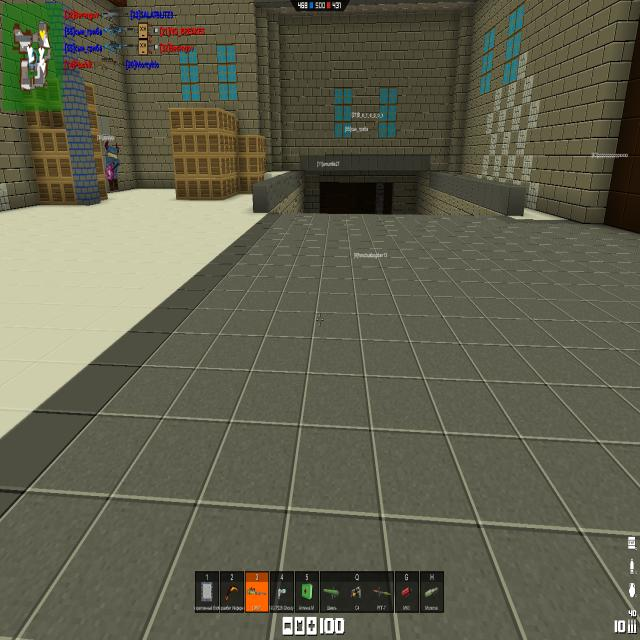player: (104, 138, 121, 192)
